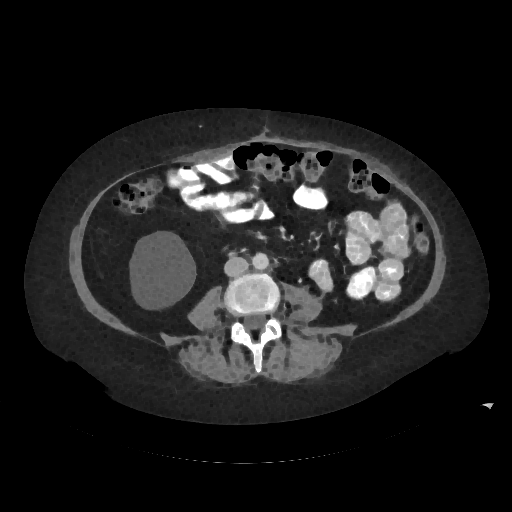Lesion: (128, 228, 198, 309)
